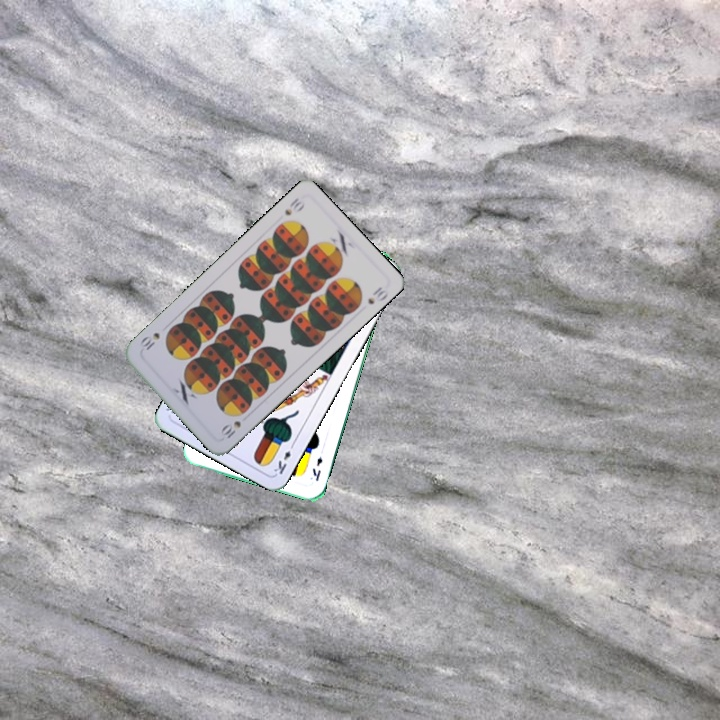EK: (270, 438, 297, 477), (308, 453, 325, 483)
S10: (216, 417, 244, 441), (280, 194, 307, 218)
